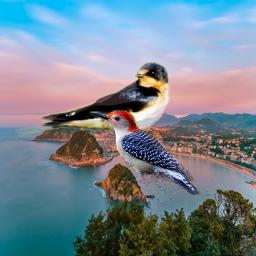Swallow: (15, 61, 171, 142)
Woodpecker: (90, 110, 200, 195)
